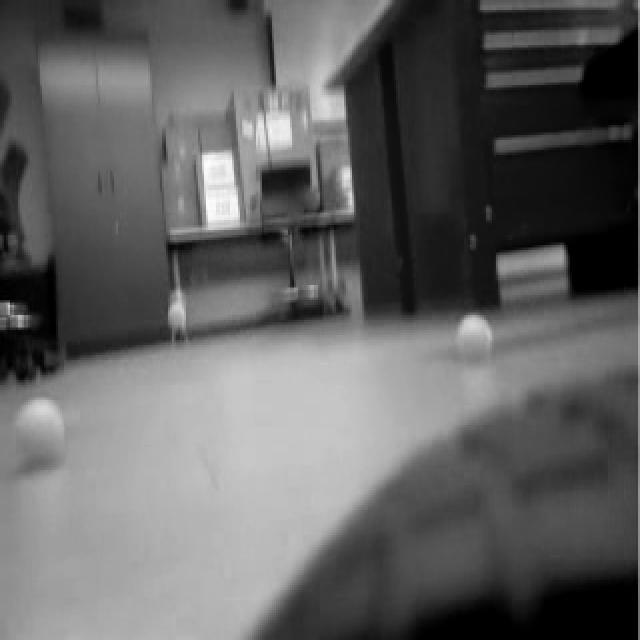ping-pong-ball: (8, 388, 66, 476), (454, 313, 498, 368), (165, 294, 185, 335)
